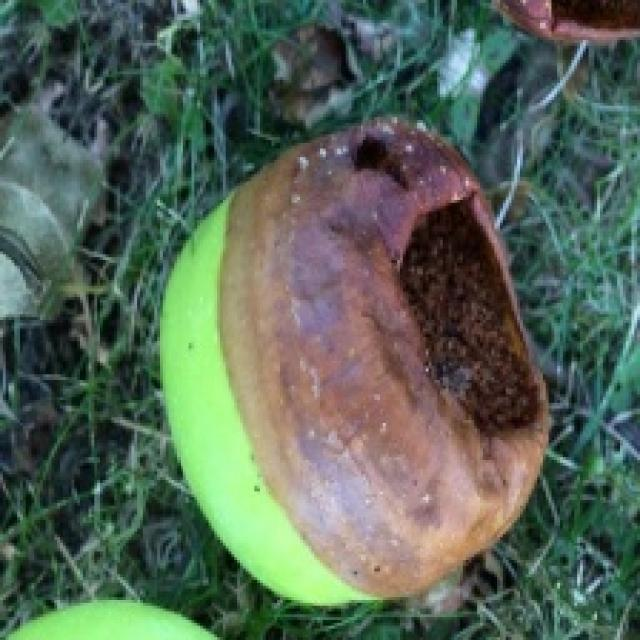rotten_apple: (168, 125, 546, 602)
